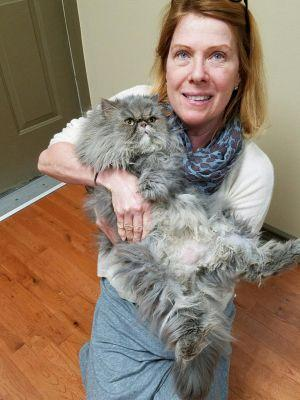persian: (93, 85, 178, 162)
